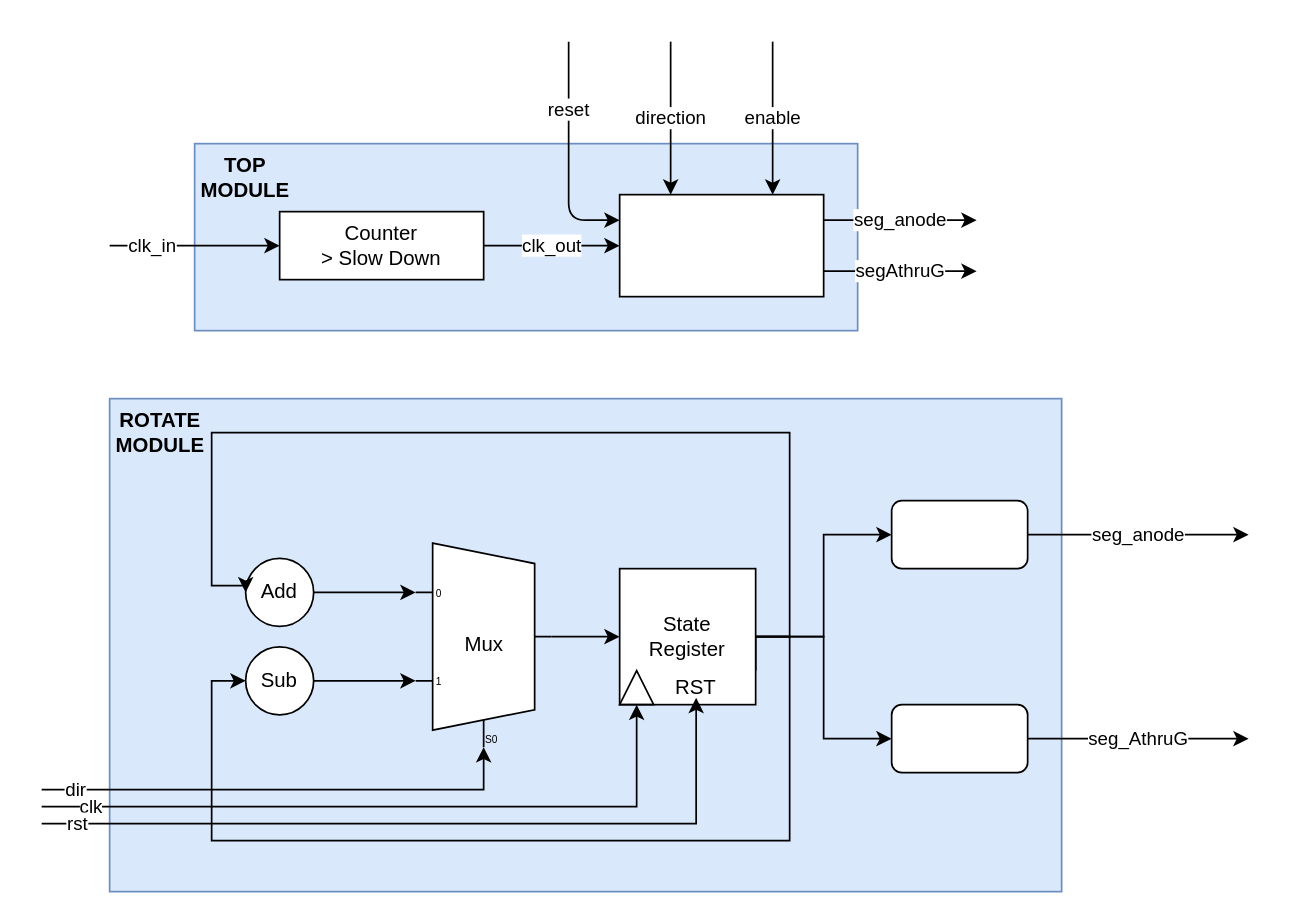
The diagram is 1292 pixels wide and 921 high, and some of its shapes have lost their labels. The centre of each missing label's shape, as x and y in pixels:
"LUT for Seg Enable" goes at (959,534).
"LUT for Seg Output" goes at (959,738).
"Rotate" goes at (721,245).
